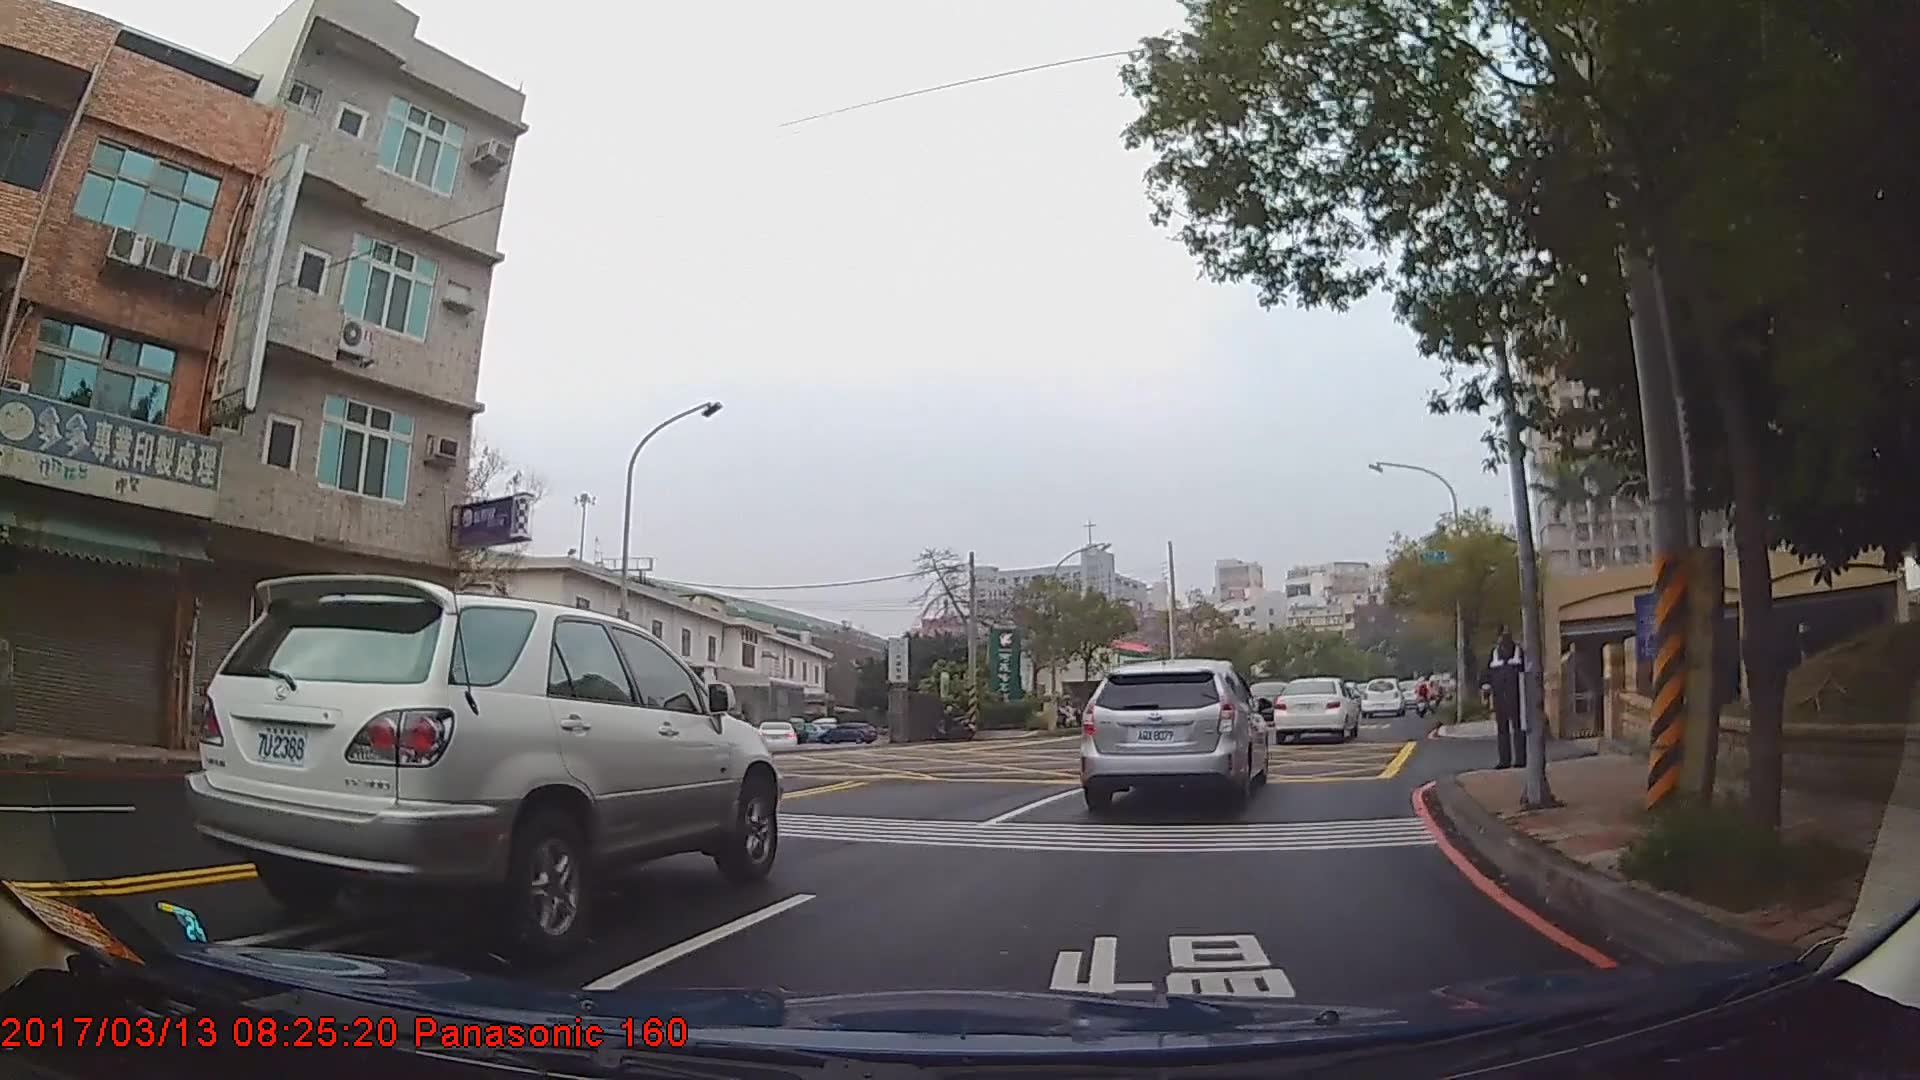pedestrian: (1481, 623, 1537, 768)
vehicle: (182, 569, 781, 950), (1077, 654, 1269, 820), (1269, 674, 1357, 740), (1358, 676, 1406, 719), (816, 719, 877, 741), (753, 719, 798, 748)
